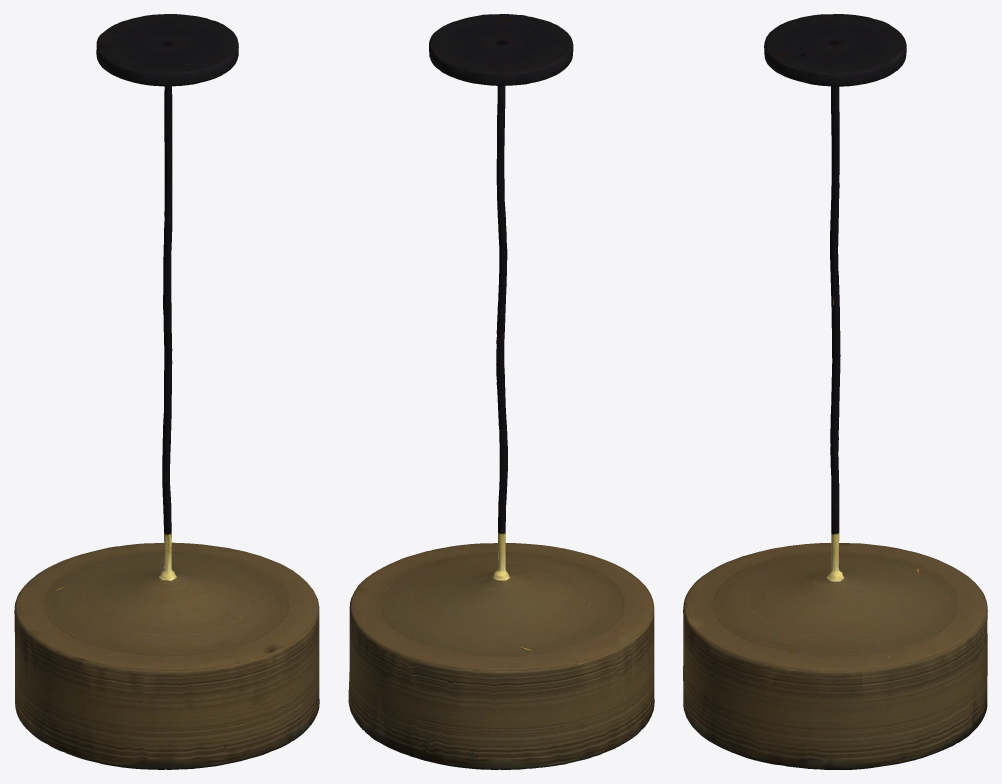
File: ceiling_lamp.glb
3 views of the same model, side by side, from view 1: azimuth 30°, elevation 25°; view 2: azimuth 150°, elevation 25°; view 3: azimuth 270°, elevation 25° (orthographic).
Size of the model in its own units: 0.8397 by 2.01 by 0.837.
1 material, 1 textured.
